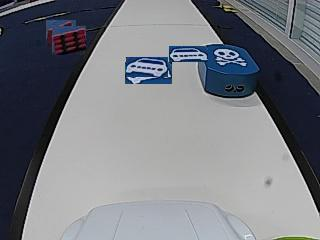danger: (214, 47, 246, 66)
